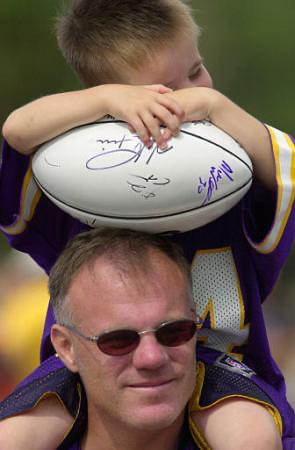Face: (84, 284, 201, 436), (112, 28, 228, 106)
